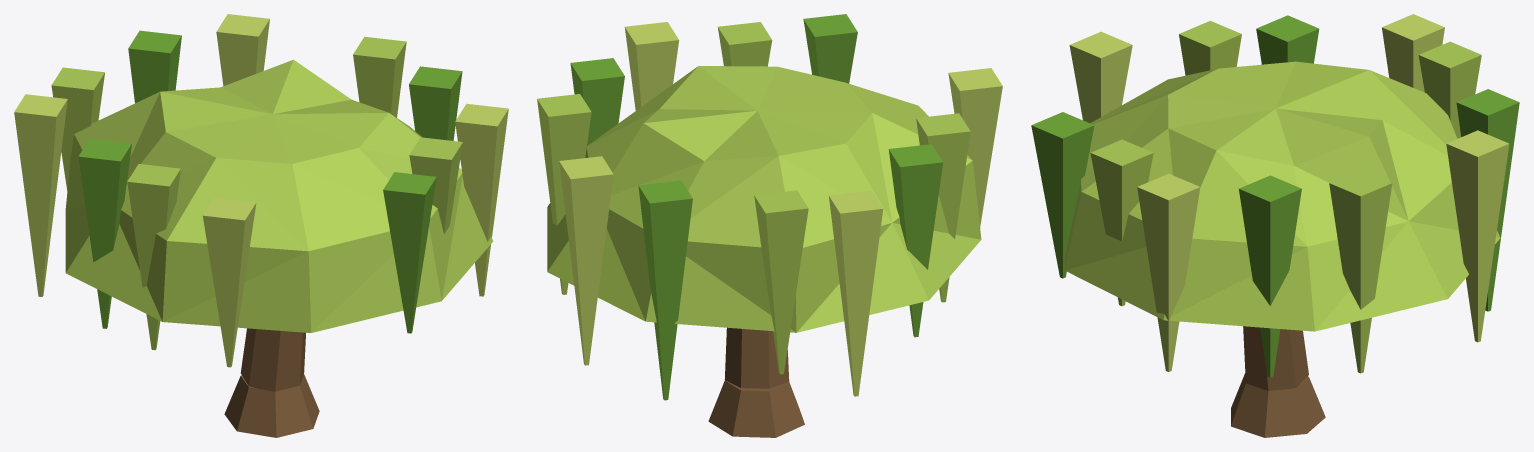
File: tree_willow_4.glb
The picture shows the model from 3 angles, left to right: view 1: azimuth 30°, elevation 25°; view 2: azimuth 150°, elevation 25°; view 3: azimuth 270°, elevation 25°; orthographic projection.
Visible parts, largest first — view 1: tree_willow_4; view 2: tree_willow_4; view 3: tree_willow_4.
Part boxes in pixels (left/top/right/bottom): tree_willow_4: left=14, top=14, right=508, bottom=437; tree_willow_4: left=537, top=14, right=1002, bottom=437; tree_willow_4: left=1031, top=14, right=1519, bottom=437.
Size of what is drawn, in the model's own units: 6.04 by 4.69 by 6.61.
